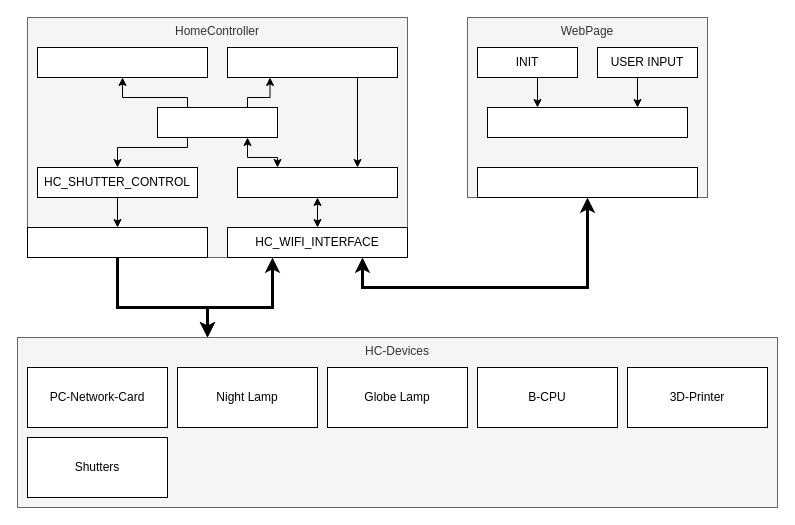
The diagram is 795 pixels wide and 525 high, and some of its shapes have lost their labels. Each missing label, with the centre of its shape:
"----BROWSER_INTERFACE---" goes at point 587,182.
"GET-REQUEST" goes at point 587,122.
"HC_MAIN" goes at point 217,122.
"HC_PIN_INTERFACE" goes at point 117,242.
"HC_SERVER_APPLICATION" goes at point 317,182.
"HC_TFT_SCREEN_CONTROL" goes at point 122,62.
"HC_TIME_KEEPER" goes at point 312,62.
